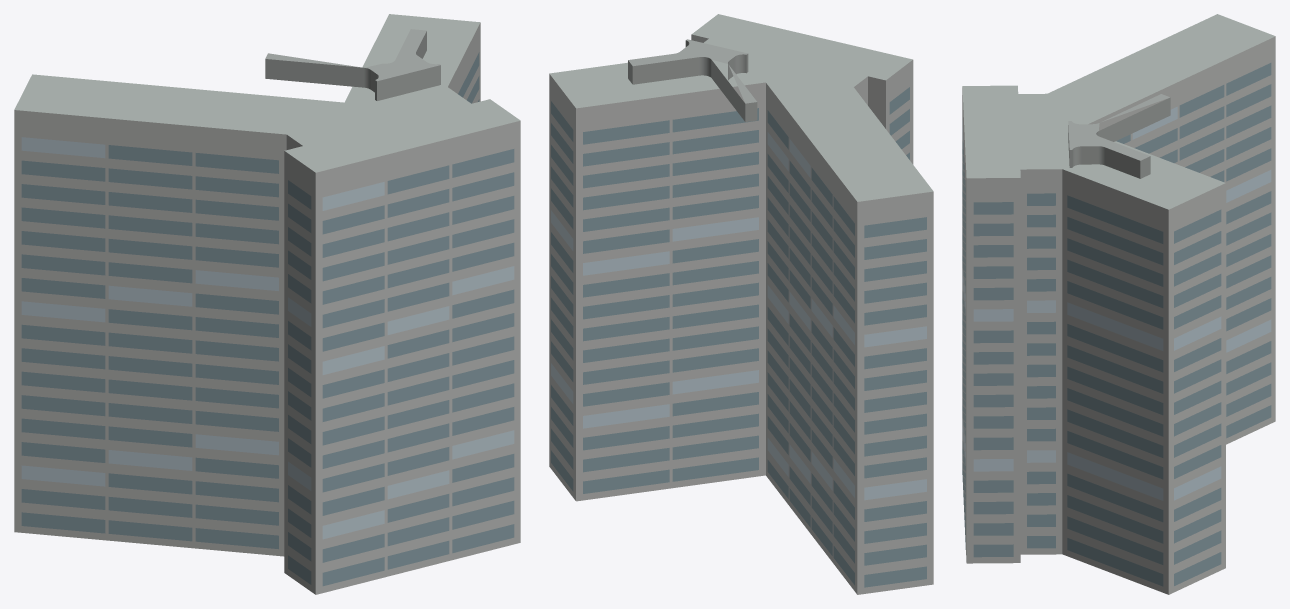
Rendered from fallback-raemian-oksu-riverzen-110.glb.
The picture shows the model from 3 angles, left to right: view 1: azimuth 30°, elevation 25°; view 2: azimuth 150°, elevation 25°; view 3: azimuth 270°, elevation 25°; orthographic projection. The views are drawn at different scales.
Visible parts, largest first — view 1: fallback-raemian-oksu-riverzen-110; view 2: fallback-raemian-oksu-riverzen-110; view 3: fallback-raemian-oksu-riverzen-110.
Boxes of the visible parts, <box> form: fallback-raemian-oksu-riverzen-110: <box>14,14,520,594</box>; fallback-raemian-oksu-riverzen-110: <box>549,14,933,594</box>; fallback-raemian-oksu-riverzen-110: <box>962,14,1275,594</box>.
Size of the model in its own units: 54.12 by 52 by 36.64.
